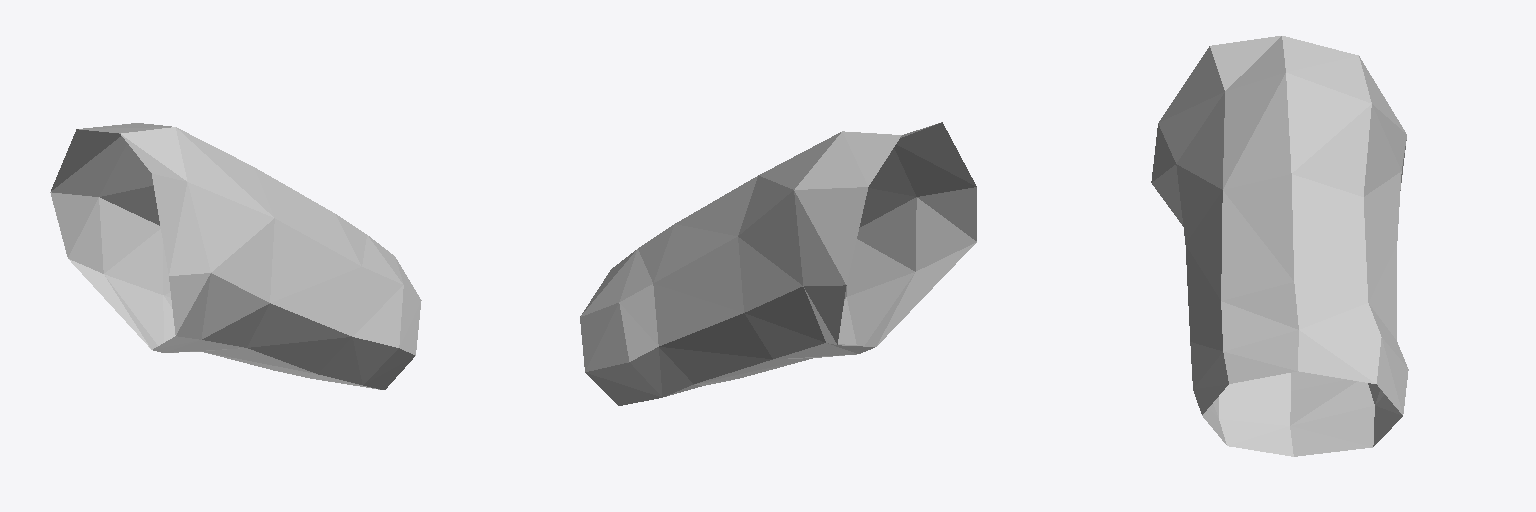
File: antebrazoizq.obj
3 views of the same model, side by side, from view 1: azimuth 30°, elevation 25°; view 2: azimuth 150°, elevation 25°; view 3: azimuth 270°, elevation 25° (orthographic).
Parts seen in each view (by area): view 1: casual_male.002_Plane.001; view 2: casual_male.002_Plane.001; view 3: casual_male.002_Plane.001.
Boxes of the visible parts, x1=… form: casual_male.002_Plane.001: x1=50, y1=123, x2=421, y2=389; casual_male.002_Plane.001: x1=580, y1=122, x2=976, y2=405; casual_male.002_Plane.001: x1=1151, y1=36, x2=1408, y2=456.
Size of the model in its own units: 0.2555 by 0.2547 by 0.1922.